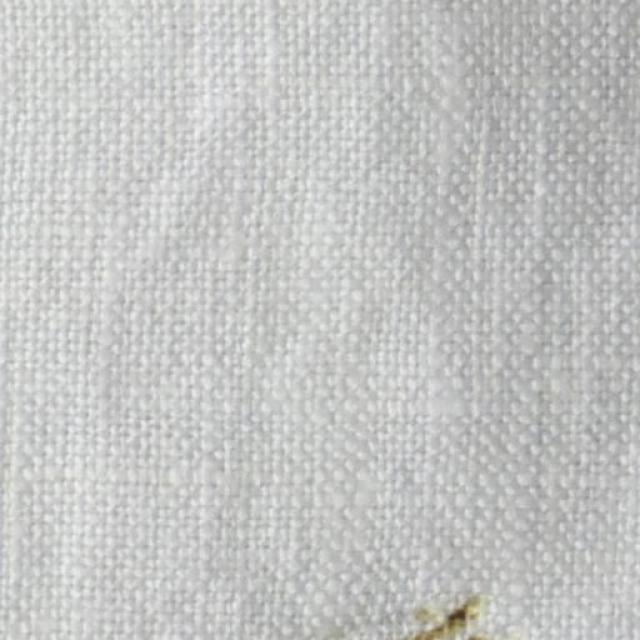Stain: (406, 596, 495, 640)
